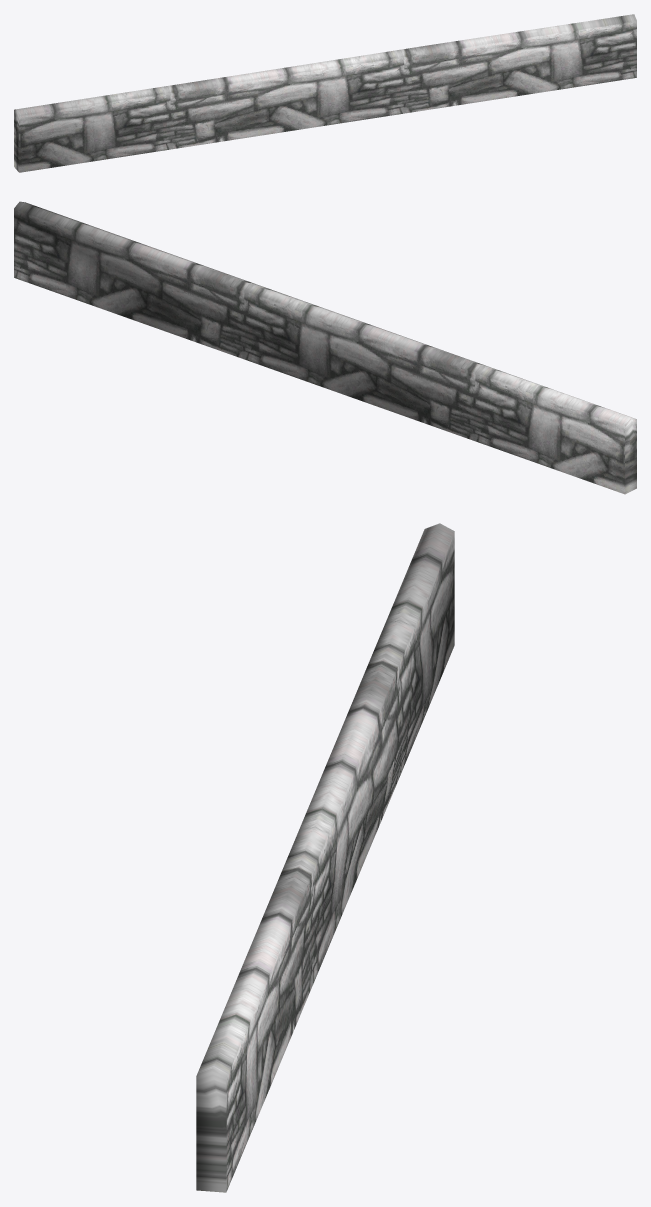
Rendered from HTOWN01_DAMN.fbx.
3 renders of one model, top to bottom at view 1: azimuth 30°, elevation 25°; view 2: azimuth 150°, elevation 25°; view 3: azimuth 270°, elevation 25°, orthographic. The views are drawn at different scales.
Visible parts, largest first — view 1: HTOWN01_DAMN; view 2: HTOWN01_DAMN; view 3: HTOWN01_DAMN.
Boxes of the visible parts, x1,y1,x2,y2 form: HTOWN01_DAMN: (14, 14, 636, 172); HTOWN01_DAMN: (14, 201, 636, 494); HTOWN01_DAMN: (196, 523, 454, 1192).
Bounding box in the file's own units: 152693 × 15689 × 30334.
1 material, 1 textured.
